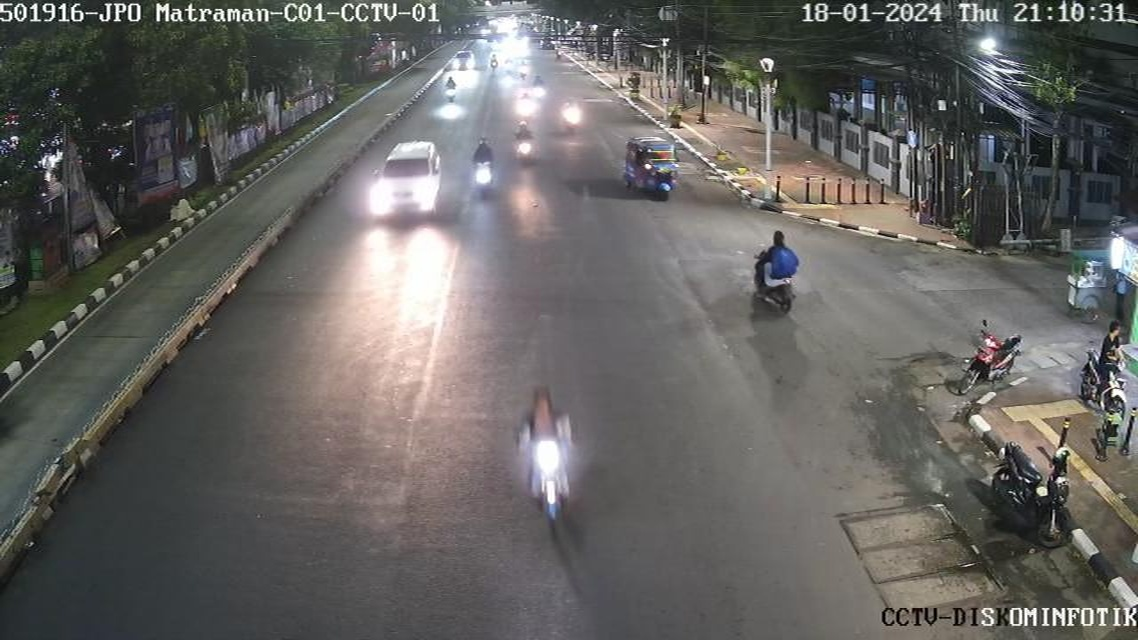Gerobak: (1049, 230, 1133, 327)
